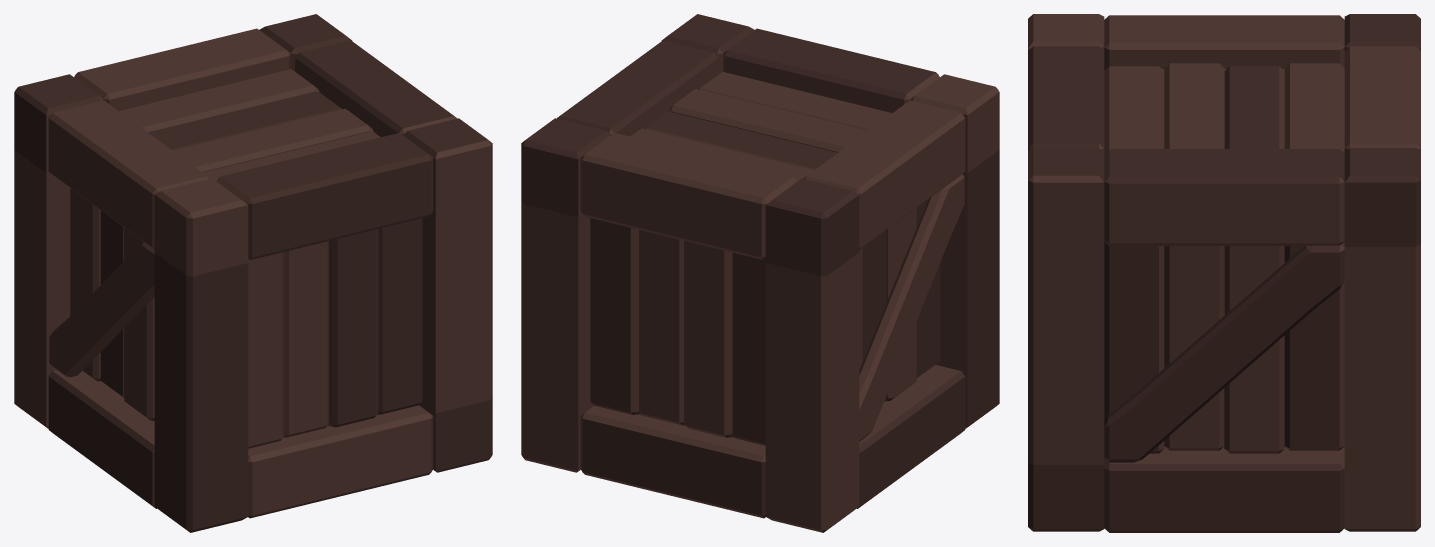
Rendered from Caixa.fbx.
3 renders of one model, left to right at view 1: azimuth 30°, elevation 25°; view 2: azimuth 150°, elevation 25°; view 3: azimuth 270°, elevation 25°, orthographic. The views are drawn at different scales.
Visible parts, largest first — view 1: Caixa; view 2: Caixa; view 3: Caixa.
Part boxes in pixels (bbox=[...]): Caixa: bbox=[14, 14, 492, 532]; Caixa: bbox=[521, 14, 999, 532]; Caixa: bbox=[1028, 14, 1420, 532].
Bounding box in the file's own units: 57.76 × 57.96 × 57.76.
